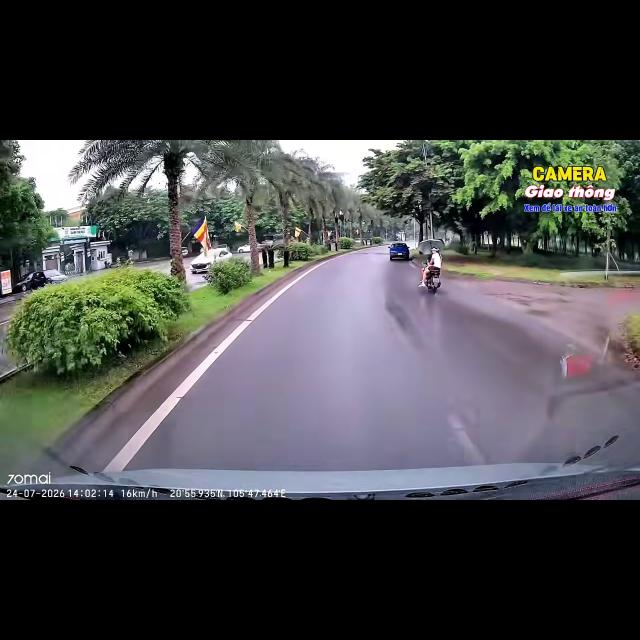car: (12, 270, 67, 292), (190, 249, 232, 273), (389, 242, 410, 260), (44, 269, 67, 283), (216, 244, 230, 252), (181, 248, 189, 256), (257, 244, 264, 251)
motorcycle: (425, 271, 440, 293)
